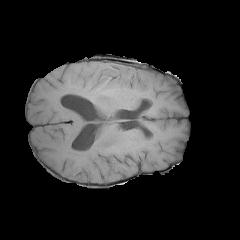glioma: (67, 62, 133, 98)
